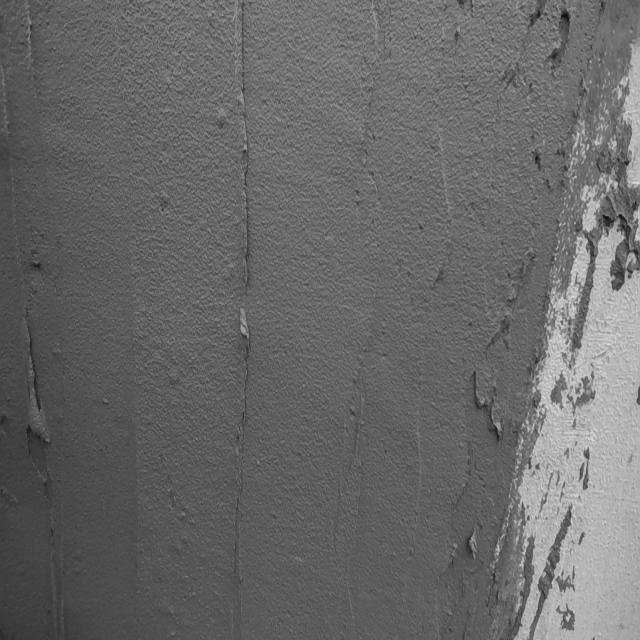trowels marks: (227, 1, 262, 630), (12, 277, 50, 527)
